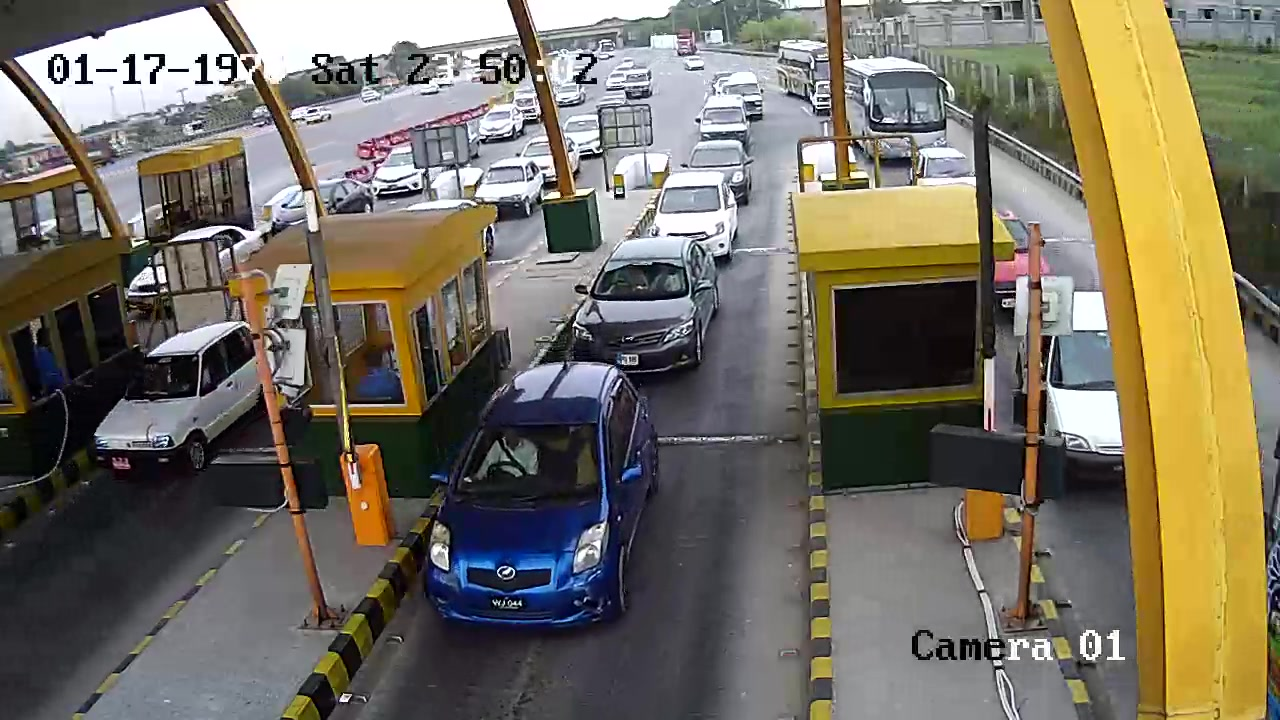F1: (418, 356, 676, 644)
